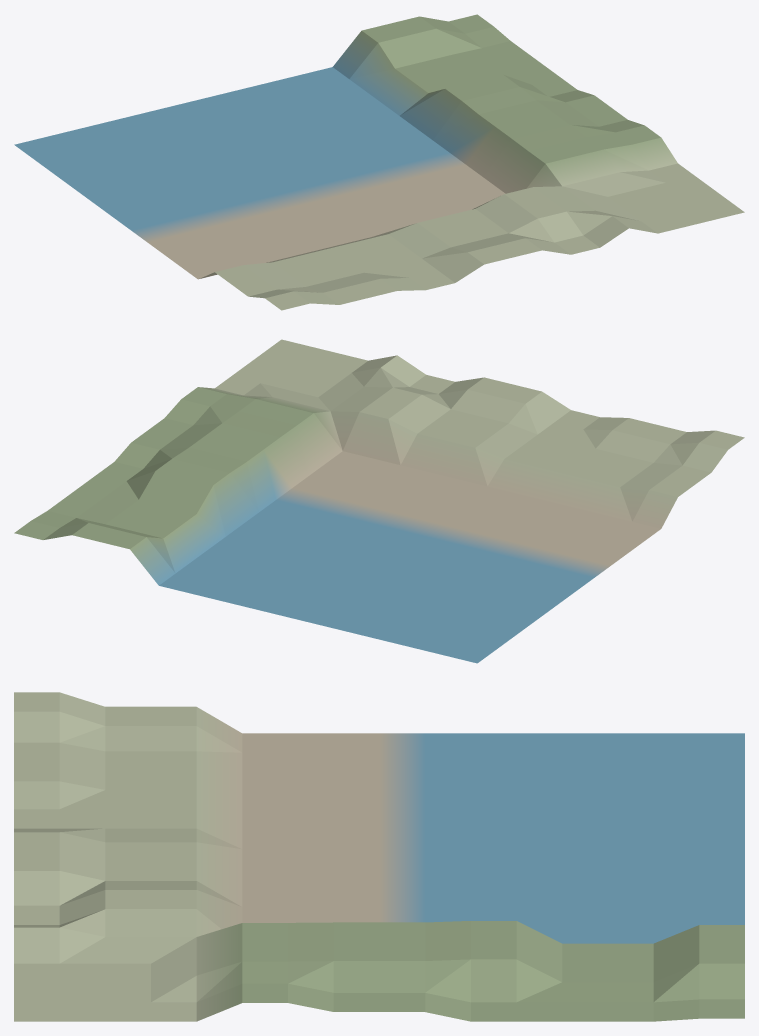
3 renders of one model, top to bottom at view 1: azimuth 30°, elevation 25°; view 2: azimuth 150°, elevation 25°; view 3: azimuth 270°, elevation 25°, orthographic. The views are drawn at different scales.
Bounding box in the file's own units: 32 × 2.14 × 32.
